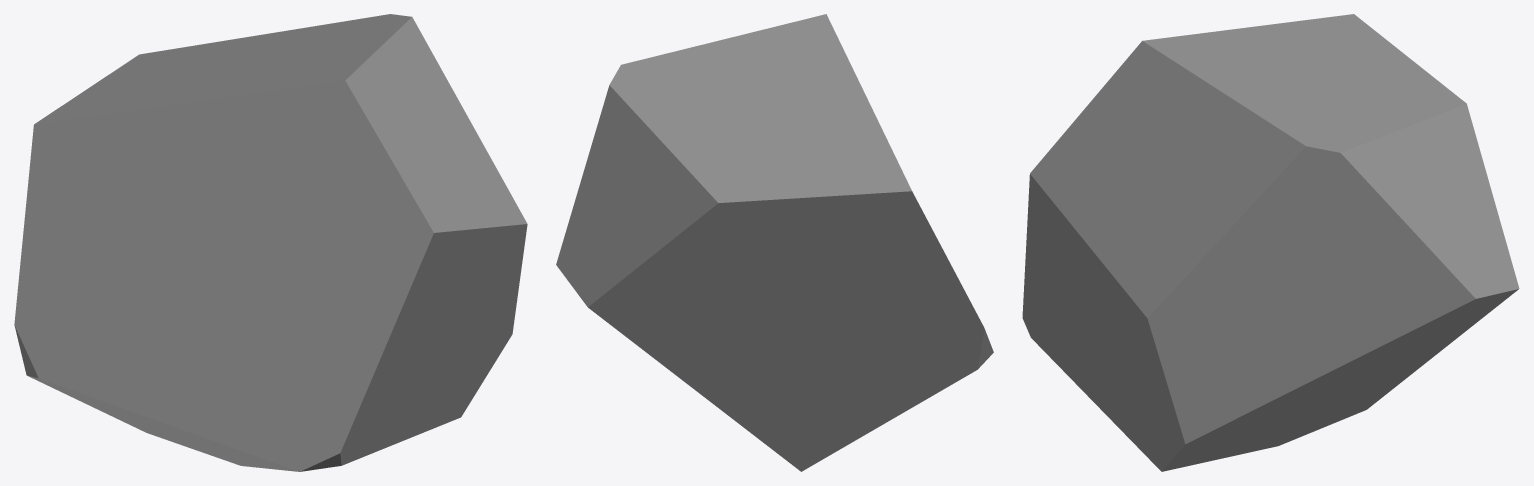
Rendered from Rock_8.fbx.
3 views of the same model, side by side, from view 1: azimuth 30°, elevation 25°; view 2: azimuth 150°, elevation 25°; view 3: azimuth 270°, elevation 25° (orthographic). The views are drawn at different scales.
Visible parts, largest first — view 1: Rock_8; view 2: Rock_8; view 3: Rock_8.
Part boxes in pixels (x1=…): Rock_8: x1=14, y1=14, x2=527, y2=471; Rock_8: x1=556, y1=14, x2=993, y2=471; Rock_8: x1=1022, y1=14, x2=1519, y2=471.
Bounding box in the file's own units: 59.42 × 54.64 × 58.27.
